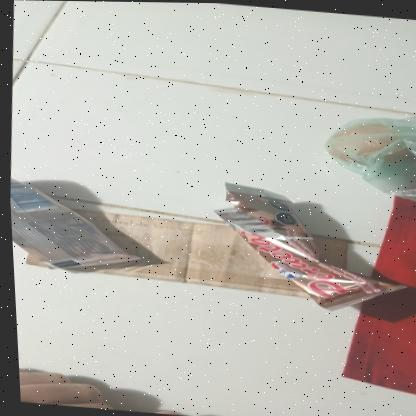five-back-vef: (18, 203, 347, 300)
